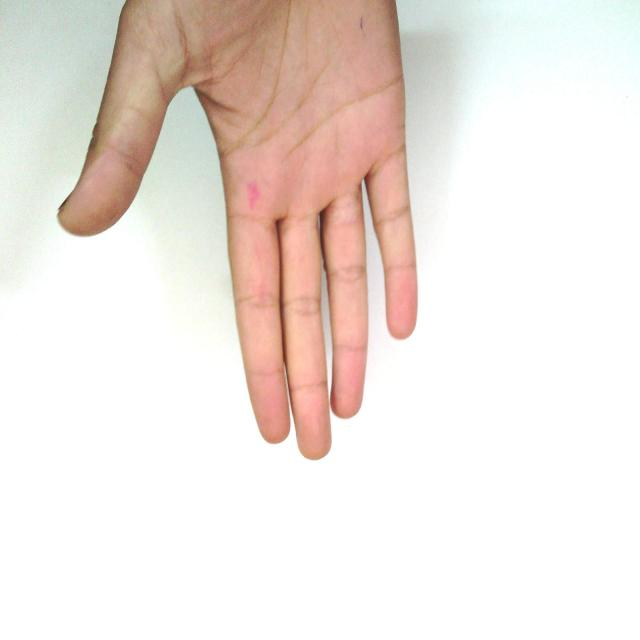others: (37, 1, 507, 488)
